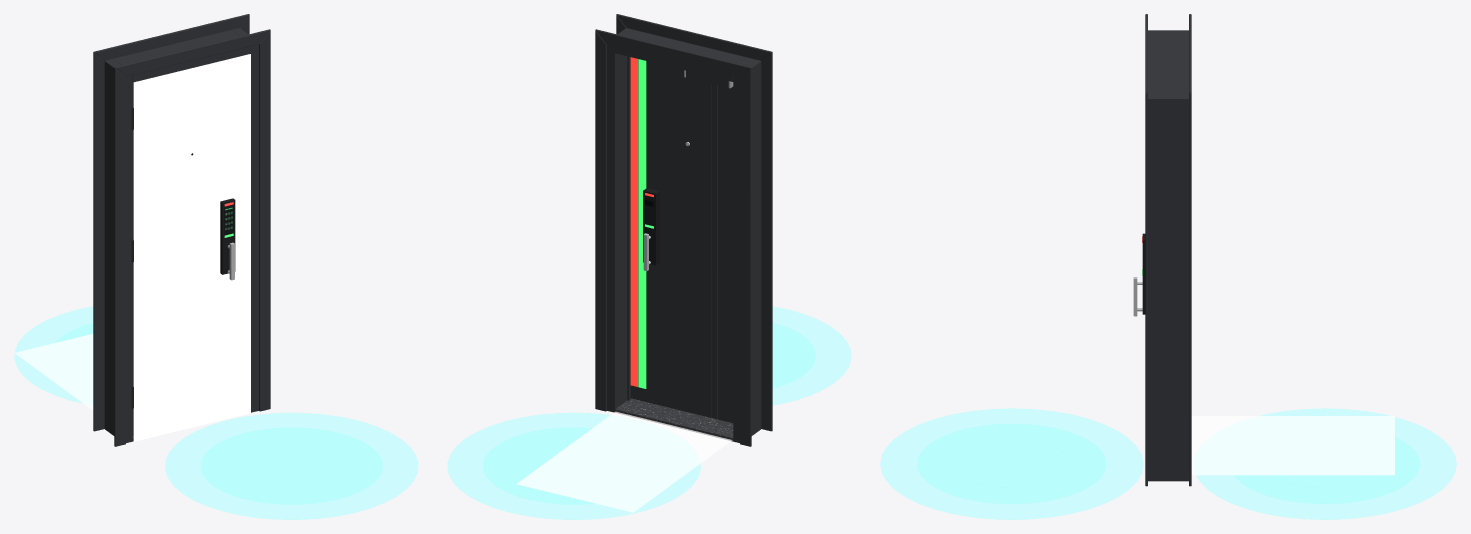
Rendered from mk_door_main_l.glb.
3 renders of one model, left to right at view 1: azimuth 30°, elevation 25°; view 2: azimuth 150°, elevation 25°; view 3: azimuth 270°, elevation 25°, orthographic. The views are drawn at different scales.
Visible parts, largest first — view 1: mk_door_main_l_open_light, mk_door_main_l_unlock_pool, mk_door_main_l_casing, mk_door_main_l_frame, mk_door_main_l_lock_body, mk_door_main_l_leaf_body; view 2: mk_door_main_l_leaf_body, mk_door_main_l_unlock_pool, mk_door_main_l_frame, mk_door_main_l_casing, mk_door_main_l_open_light, mk_door_main_l_lock_green, mk_door_main_l_lock_red, mk_door_main_l_lock_body; view 3: mk_door_main_l_unlock_pool, mk_door_main_l_frame, mk_door_main_l_open_light, mk_door_main_l_casing.
Part boxes in pixels (bbox=[...]): mk_door_main_l_open_light: bbox=[14, 54, 250, 441]; mk_door_main_l_unlock_pool: bbox=[14, 306, 418, 519]; mk_door_main_l_casing: bbox=[93, 14, 270, 446]; mk_door_main_l_frame: bbox=[104, 28, 258, 442]; mk_door_main_l_lock_body: bbox=[191, 153, 235, 280]; mk_door_main_l_leaf_body: bbox=[132, 53, 249, 436]; mk_door_main_l_leaf_body: bbox=[630, 59, 733, 422]; mk_door_main_l_unlock_pool: bbox=[447, 306, 851, 519]; mk_door_main_l_frame: bbox=[607, 28, 761, 442]; mk_door_main_l_casing: bbox=[595, 14, 772, 446]; mk_door_main_l_open_light: bbox=[516, 411, 732, 512]; mk_door_main_l_lock_green: bbox=[638, 59, 653, 388]; mk_door_main_l_lock_red: bbox=[630, 57, 653, 386]; mk_door_main_l_lock_body: bbox=[643, 142, 689, 270]; mk_door_main_l_unlock_pool: bbox=[880, 408, 1456, 519]; mk_door_main_l_frame: bbox=[1148, 30, 1188, 481]; mk_door_main_l_open_light: bbox=[1191, 416, 1394, 475]; mk_door_main_l_casing: bbox=[1145, 14, 1191, 486].
Size of the model in its own units: 1.29 by 2.11 by 2.8.
17 materials, 3 textured.
